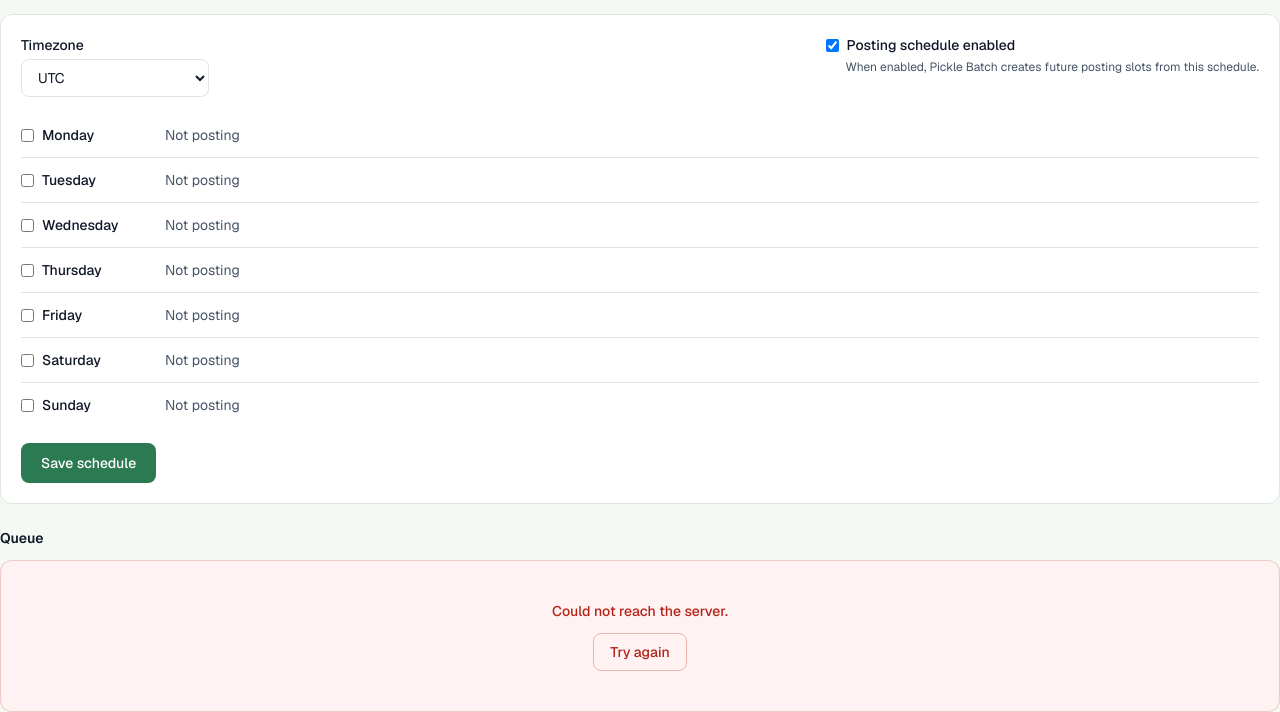
Scenario: QueuePage — Queue (list/calendar, assign/unassign) › shows an error state with retry when loading the queue fails
This screenshot has width=1280, height=712.
(page scrolled)
expect the text "Could not reach the server." is shown: met, box [552,601,728,621]
Click the button "Try again": (640, 652) [593,633,687,671]
(page scrolled)
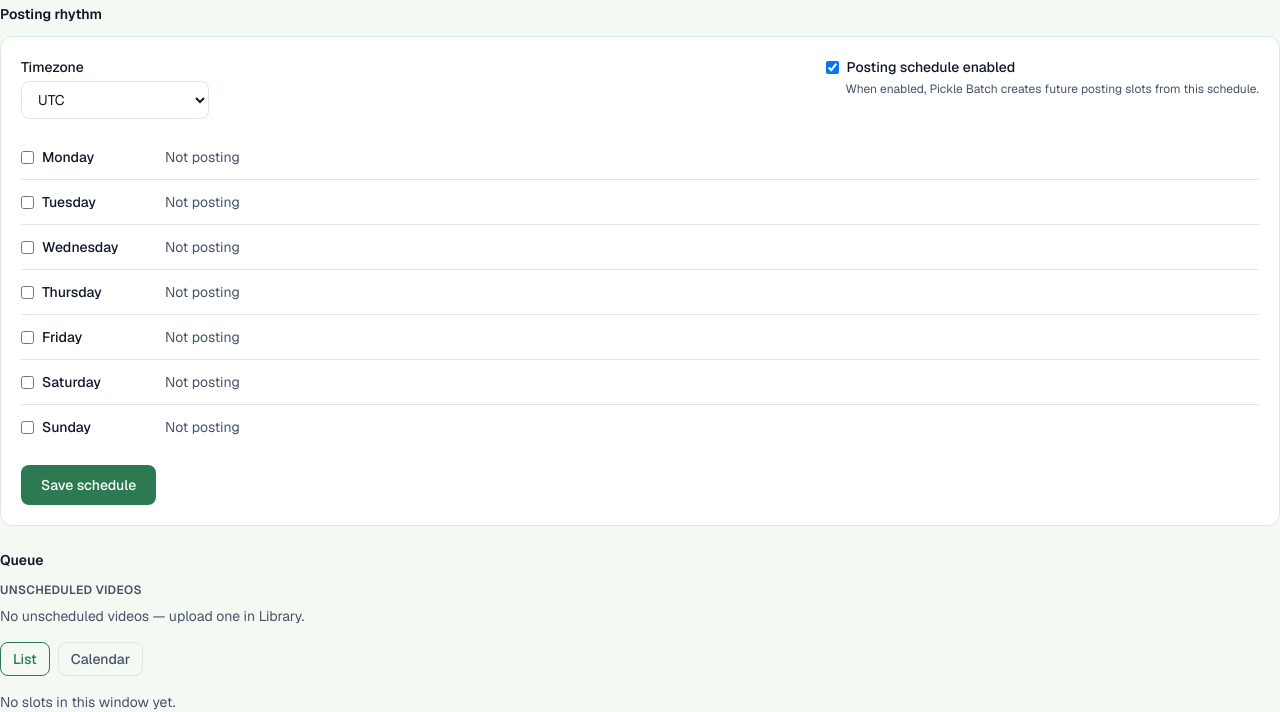
expect the text "No slots in this window yet." is shown: met, box [0,693,176,711]
